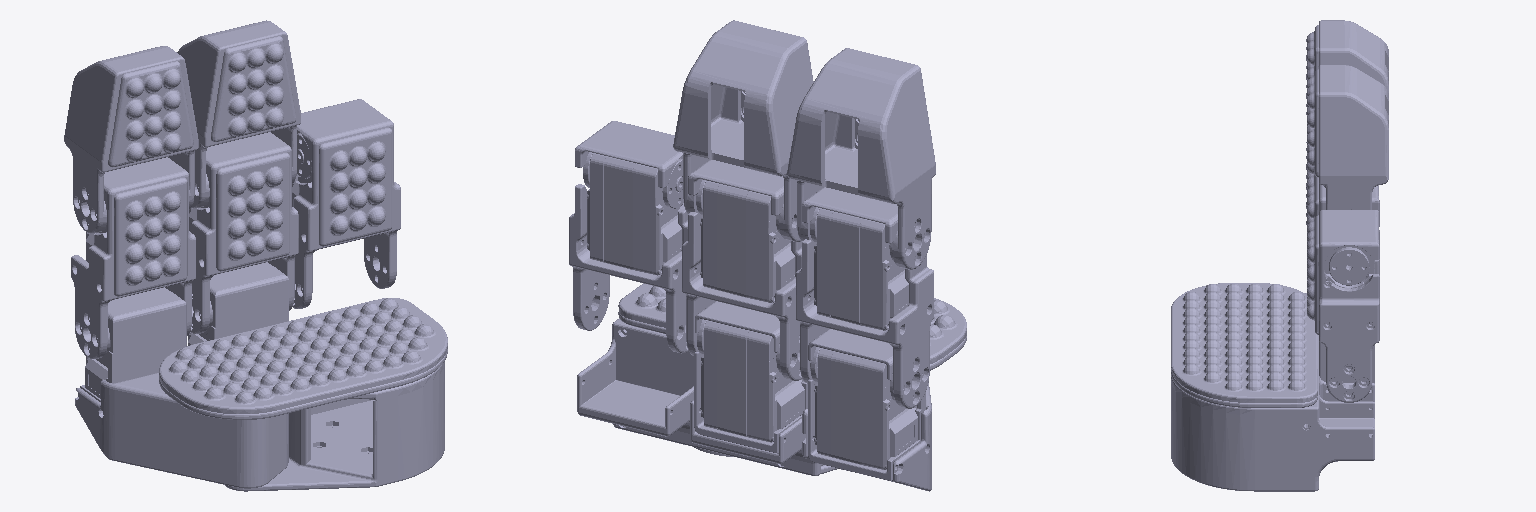
URDF robot description (hand_asembly_ver2_URDF_5):
<?xml version="1.0" encoding="utf-8"?>
<!-- This URDF was automatically created by SolidWorks to URDF Exporter! Originally created by [author] ([email redacted]) 
     Commit Version: 1.6.0-4-g7f85cfe  Build Version: 1.6.7995.38578
     For more information, please see http://wiki.ros.org/sw_urdf_exporter -->
<robot
  name="hand_asembly_ver2_URDF_5">
  <link
    name="base_link">
    <inertial>
      <origin
        xyz="-0.0089152 0.0037386 0.033472"
        rpy="0 0 0" />
      <mass
        value="0.14441" />
      <inertia
        ixx="5.0656E-05"
        ixy="-1.7172E-06"
        ixz="-4.1779E-06"
        iyy="0.00013332"
        iyz="2.3836E-06"
        izz="0.00016971" />
    </inertial>
    <visual>
      <origin
        xyz="0 0 0"
        rpy="0 0 0" />
      <geometry>
        <mesh
          filename="base_link.STL" />
      </geometry>
      <material
        name="">
        <color
          rgba="0.7 0.7 0.8 1" />
      </material>
    </visual>
    <collision>
      <origin
        xyz="-0.023 0.0 0.03"
        rpy="0 0 0" />
      <geometry>
        <box size="0.13 0.08 0.056" />
      </geometry>
    </collision>
  </link>
  <link
    name="proximal_thumb">
    <inertial>
      <origin
        xyz="-0.015654 0.029955 0.02991"
        rpy="0 0 0" />
      <mass
        value="0.1524" />
      <inertia
        ixx="4.3343E-05"
        ixy="7.7914E-06"
        ixz="-8.2283E-08"
        iyy="4.109E-05"
        iyz="-8.6485E-08"
        izz="4.2646E-05" />
    </inertial>
    <visual>
      <origin
        xyz="0 0 0"
        rpy="0 0 0" />
      <geometry>
        <mesh
          filename="proximal_thumb.STL" />
      </geometry>
      <material
        name="">
        <color
          rgba="0.7 0.7 0.8 1" />
      </material>
    </visual>
  </link>
  <joint
    name="joint_proximal_thumb"
    type="revolute">
    <origin
      xyz="-0.05532 -0.00754 0.0075"
      rpy="0 0 0" />
    <parent
      link="base_link" />
    <child
      link="proximal_thumb" />
    <axis
      xyz="0 0 -1" />
    <limit
      lower="-3.14"
      upper="0"
      effort="0.35"
      velocity="1." />
  </joint>
  <link
    name="mideal_thumb">
    <inertial>
      <origin
        xyz="0.00038305 -0.0013227 0.042746"
        rpy="0 0 0" />
      <mass
        value="0.080951" />
      <inertia
        ixx="2.2936E-05"
        ixy="-2.4579E-07"
        ixz="-1.4838E-07"
        iyy="2.9321E-05"
        iyz="7.5298E-07"
        izz="1.4994E-05" />
    </inertial>
    <visual>
      <origin
        xyz="0 0 0"
        rpy="0 0 0" />
      <geometry>
        <mesh
          filename="mideal_thumb.STL" />
      </geometry>
      <material
        name="">
        <color
          rgba="0.7 0.7 0.8 1" />
      </material>
    </visual>
    <collision>
      <origin
        xyz="0 -0.005 0.045"
        rpy="0 0 0" />
      <geometry>
        <box size="0.04 0.03 0.05" />
      </geometry>
    </collision>
  </link>
  <joint
    name="joint_mideal_thumb"
    type="revolute">
    <origin
      xyz="-0.024495 0.05232 0.05561"
      rpy="0 0 0" />
    <parent
      link="proximal_thumb" />
    <child
      link="mideal_thumb" />
    <axis
      xyz="1 0 0" />
    <limit
      lower="0"
      upper="1.0"
      effort="0.35"
      velocity="1." />
  </joint>
  <link
    name="distal_thumb">
    <inertial>
      <origin
        xyz="0.00023967 -0.00041638 0.034377"
        rpy="0 0 0" />
      <mass
        value="0.025098" />
      <inertia
        ixx="1.1258E-05"
        ixy="-1.1272E-11"
        ixz="4.9029E-12"
        iyy="1.6125E-05"
        iyz="6.5286E-08"
        izz="9.0646E-06" />
    </inertial>
    <visual>
      <origin
        xyz="0 0 0"
        rpy="0 0 0" />
      <geometry>
        <mesh
          filename="distal_thumb.STL" />
      </geometry>
      <material
        name="">
        <color
          rgba="0.7 0.7 0.8 1" />
      </material>
    </visual>
    <collision>
      <origin
        xyz="0 -0.005 0.045"
        rpy="0 0 0" />
      <geometry>
        <box size="0.04 0.03 0.04" />
      </geometry>
    </collision>
  </link>
  <joint
    name="joint_distal_thumb"
    type="revolute">
    <origin
      xyz="0 0 0.05861"
      rpy="0 0 0" />
    <parent
      link="mideal_thumb" />
    <child
      link="distal_thumb" />
    <axis
      xyz="1 0 0" />
    <limit
      lower="-1.57"
      upper="1.57"
      effort="0.35"
      velocity="1." />
  </joint>
  <link
    name="proximal_finger_first">
    <inertial>
      <origin
        xyz="0.000296203582652046 0.0006516973139282 0.0249998780074845"
        rpy="0 0 0" />
      <mass
        value="0.0675423673234977" />
      <inertia
        ixx="1.63603804669836E-05"
        ixy="-7.61426068978448E-08"
        ixz="1.24396838964321E-08"
        iyy="1.91615017103963E-05"
        iyz="2.48697806610957E-07"
        izz="9.81866259462588E-06" />
    </inertial>
    <visual>
      <origin
        xyz="0 0 0"
        rpy="0 0 0" />
      <geometry>
        <mesh
          filename="proximal_finger_first.STL" />
      </geometry>
      <material
        name="">
        <color
          rgba="0.7 0.7 0.8 1" />
      </material>
    </visual>
  </link>
  <joint
    name="joint_proximal_finger_first"
    type="fixed">
    <origin
      xyz="-0.0302 0.04346 0.025"
      rpy="0 0 0" />
    <parent
      link="base_link" />
    <child
      link="proximal_finger_first" />
    <axis
      xyz="0 0 0" />
  </joint>
  <link
    name="mideal_finger_first">
    <inertial>
      <origin
        xyz="0.000383050288938834 -0.00132273624630646 0.0427464912817172"
        rpy="0 0 0" />
      <mass
        value="0.0809511181244797" />
      <inertia
        ixx="2.29356455586384E-05"
        ixy="-2.4579011109225E-07"
        ixz="-1.48376826392739E-07"
        iyy="2.9320679485353E-05"
        iyz="7.52978669619452E-07"
        izz="1.49942065418516E-05" />
    </inertial>
    <visual>
      <origin
        xyz="0 0 0"
        rpy="0 0 0" />
      <geometry>
        <mesh
          filename="mideal_finger_first.STL" />
      </geometry>
      <material
        name="">
        <color
          rgba="0.7 0.7 0.8 1" />
      </material>
    </visual>
    <collision>
      <origin
        xyz="0 -0.005 0.045"
        rpy="0 0 0" />
      <geometry>
        <box size="0.04 0.03 0.04" />
      </geometry>
    </collision>
  </link>
  <joint
    name="joint_mideal_finger_first"
    type="revolute">
    <origin
      xyz="0.000375 0.0014 0.03811"
      rpy="0 0 0" />
    <parent
      link="proximal_finger_first" />
    <child
      link="mideal_finger_first" />
    <axis
      xyz="1 0 0" />
    <limit
      lower="0"
      upper="1.0"
      effort="0.35"
      velocity="1." />
  </joint>
  <link
    name="distal_finger_first">
    <inertial>
      <origin
        xyz="0.000239668381832973 -0.000416380702709402 0.0343767364418331"
        rpy="0 0 0" />
      <mass
        value="0.0250979032594345" />
      <inertia
        ixx="1.12577466975426E-05"
        ixy="-1.12635631190532E-11"
        ixz="4.90657935852437E-12"
        iyy="1.61247763423673E-05"
        iyz="6.52862250239253E-08"
        izz="9.06461848927077E-06" />
    </inertial>
    <visual>
      <origin
        xyz="0 0 0"
        rpy="0 0 0" />
      <geometry>
        <mesh
          filename="distal_finger_first.STL" />
      </geometry>
      <material
        name="">
        <color
          rgba="0.7 0.7 0.8 1" />
      </material>
    </visual>
    <collision>
      <origin
        xyz="0 -0.005 0.045"
        rpy="0 0 0" />
      <geometry>
        <box size="0.04 0.03 0.04" />
      </geometry>
    </collision>
  </link>
  <joint
    name="joint_distal_finger_first"
    type="revolute">
    <origin
      xyz="0 0 0.05861"
      rpy="0 0 0" />
    <parent
      link="mideal_finger_first" />
    <child
      link="distal_finger_first" />
    <axis
      xyz="1 0 0" />
    <limit
      lower="-1.57"
      upper="1.57"
      effort="0.35"
      velocity="1." />
  </joint>
  <link
    name="proximal_finger_second">
    <inertial>
      <origin
        xyz="0.000296203582651838 0.000651697313928203 0.024999878007485"
        rpy="0 0 0" />
      <mass
        value="0.0675423673234979" />
      <inertia
        ixx="1.63603804669837E-05"
        ixy="-7.61426068978491E-08"
        ixz="1.24396838964255E-08"
        iyy="1.91615017103964E-05"
        iyz="2.48697806610942E-07"
        izz="9.81866259462591E-06" />
    </inertial>
    <visual>
      <origin
        xyz="0 0 0"
        rpy="0 0 0" />
      <geometry>
        <mesh
          filename="proximal_finger_second.STL" />
      </geometry>
      <material
        name="">
        <color
          rgba="0.7 0.7 0.8 1" />
      </material>
    </visual>
  </link>
  <joint
    name="joint_proximal_finger_second"
    type="fixed">
    <origin
      xyz="0.0196 0.04346 0.025"
      rpy="0 0 0" />
    <parent
      link="base_link" />
    <child
      link="proximal_finger_second" />
    <axis
      xyz="0 0 0" />
  </joint>
  <link
    name="mideal_finger_second">
    <inertial>
      <origin
        xyz="0.00038305028189406 -0.00132273624605782 0.0427464912762848"
        rpy="0 0 0" />
      <mass
        value="0.0809511180962864" />
      <inertia
        ixx="2.29356455571759E-05"
        ixy="-2.457901112516E-07"
        ixz="-1.4837682086602E-07"
        iyy="2.93206794805552E-05"
        iyz="7.52978668851671E-07"
        izz="1.49942065386106E-05" />
    </inertial>
    <visual>
      <origin
        xyz="0 0 0"
        rpy="0 0 0" />
      <geometry>
        <mesh
          filename="mideal_finger_second.STL" />
      </geometry>
      <material
        name="">
        <color
          rgba="0.7 0.7 0.8 1" />
      </material>
    </visual>
    <collision>
      <origin
        xyz="0 -0.005 0.045"
        rpy="0 0 0" />
      <geometry>
        <box size="0.04 0.03 0.04" />
      </geometry>
    </collision>
  </link>
  <joint
    name="joint_mideal_finger_second"
    type="revolute">
    <origin
      xyz="0.000375 0.0014 0.03811"
      rpy="0 0 0" />
    <parent
      link="proximal_finger_second" />
    <child
      link="mideal_finger_second" />
    <axis
      xyz="1 0 0" />
    <limit
      lower="0"
      upper="1.0"
      effort="0.35"
      velocity="1" />
  </joint>
  <link
    name="distal_finger_second">
    <inertial>
      <origin
        xyz="0.000239666608695788 -0.000416382279528527 0.0343767375660755"
        rpy="0 0 0" />
      <mass
        value="0.0250978999147694" />
      <inertia
        ixx="1.12577462481103E-05"
        ixy="-1.07761873356734E-11"
        ixz="4.59506151653348E-12"
        iyy="1.61247756109098E-05"
        iyz="6.52859775044248E-08"
        izz="9.06461760256706E-06" />
    </inertial>
    <visual>
      <origin
        xyz="0 0 0"
        rpy="0 0 0" />
      <geometry>
        <mesh
          filename="distal_finger_second.STL" />
      </geometry>
      <material
        name="">
        <color
          rgba="0.7 0.7 0.8 1" />
      </material>
    </visual>
    <collision>
      <origin
        xyz="0 -0.005 0.045"
        rpy="0 0 0" />
      <geometry>
        <box size="0.04 0.03 0.04" />
      </geometry>
    </collision>
  </link>
  <joint
    name="joint_distal_finger_second"
    type="revolute">
    <origin
      xyz="0 0 0.05861"
      rpy="0 0 0" />
    <parent
      link="mideal_finger_second" />
    <child
      link="distal_finger_second" />
    <axis
      xyz="1 0 0" />
    <limit
      lower="-1.57"
      upper="1.57"
      effort="0.35"
      velocity="1." />
  </joint>
</robot>

--- Render facts (derived) ---
3 views of the same robot in one strip: view 1: azimuth 30°, elevation 25°; view 2: azimuth 150°, elevation 25°; view 3: azimuth 270°, elevation 25° (orthographic).
Robot: hand_asembly_ver2_URDF_5 — 10 links, 9 joints (7 revolute, 2 fixed); root link base_link; default pose: every joint at zero.
Links seen in each view (by area): view 1: base_link, proximal_thumb, mideal_finger_second, distal_thumb, mideal_thumb, mideal_finger_first, distal_finger_first, proximal_finger_first; view 2: distal_thumb, mideal_finger_second, mideal_thumb, distal_finger_first, base_link, mideal_finger_first, proximal_thumb, proximal_finger_first; view 3: base_link, mideal_finger_second, distal_finger_first, distal_thumb, mideal_finger_first.
Link boxes in pixels (x1=…): base_link: x1=159, y1=298, x2=447, y2=491; proximal_thumb: x1=75, y1=287, x2=288, y2=488; mideal_finger_second: x1=292, y1=99, x2=400, y2=308; distal_thumb: x1=64, y1=46, x2=198, y2=233; mideal_thumb: x1=71, y1=157, x2=195, y2=358; mideal_finger_first: x1=189, y1=132, x2=298, y2=333; distal_finger_first: x1=177, y1=20, x2=300, y2=208; proximal_finger_first: x1=188, y1=262, x2=288, y2=345; distal_thumb: x1=787, y1=48, x2=935, y2=269; mideal_finger_second: x1=569, y1=121, x2=688, y2=353; mideal_thumb: x1=796, y1=187, x2=933, y2=408; distal_finger_first: x1=673, y1=20, x2=813, y2=241; base_link: x1=577, y1=283, x2=966, y2=475; mideal_finger_first: x1=682, y1=160, x2=801, y2=380; proximal_thumb: x1=802, y1=329, x2=931, y2=491; proximal_finger_first: x1=694, y1=301, x2=807, y2=453; base_link: x1=1171, y1=283, x2=1374, y2=491; mideal_finger_second: x1=1307, y1=210, x2=1379, y2=402; distal_finger_first: x1=1306, y1=65, x2=1388, y2=209; distal_thumb: x1=1306, y1=20, x2=1388, y2=114; mideal_finger_first: x1=1307, y1=176, x2=1379, y2=274.
Bounding box of the posed robot: 0.1458 × 0.1039 × 0.1888 m (x, y, z).
Meshes: 10 distinct files referenced, 8 mesh visuals loaded (8 binary STL); not drawn: 2 (reference not matched to a file when rendering).
